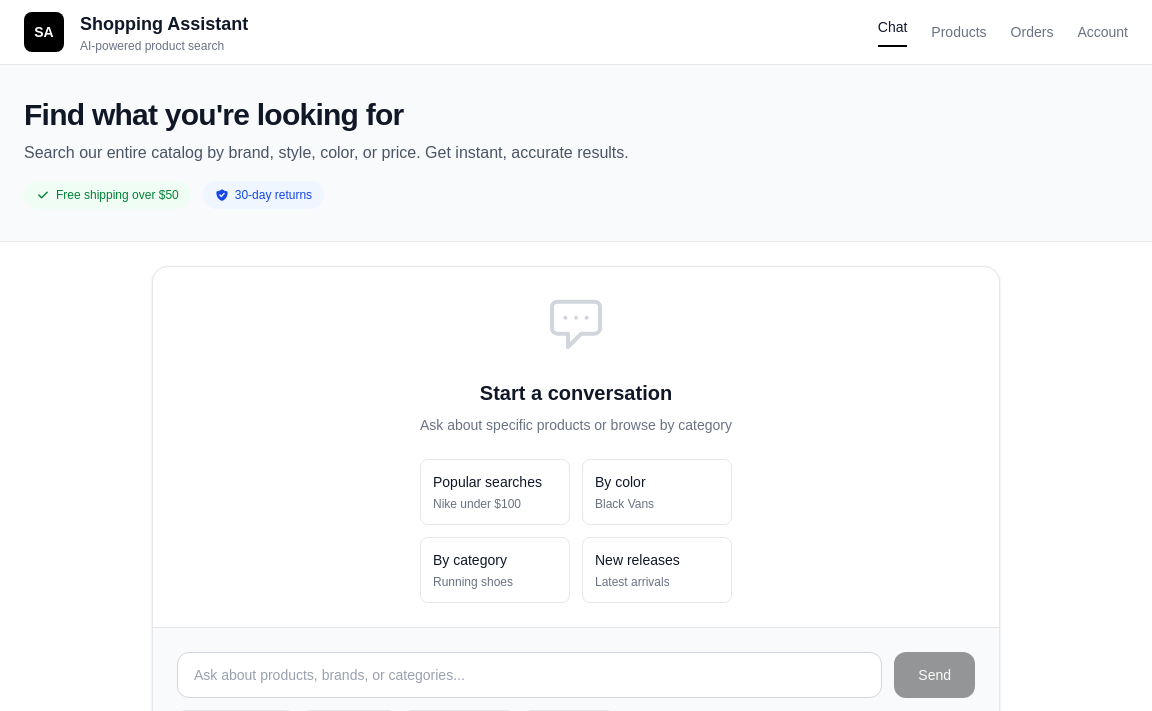
Test case: <ChatHome /> › persists history in sessionStorage
Type "hello" into the field with placeholder "Ask about products, brands, or categories...".
click(530, 675); type("hello")  # box [177,652,882,698]
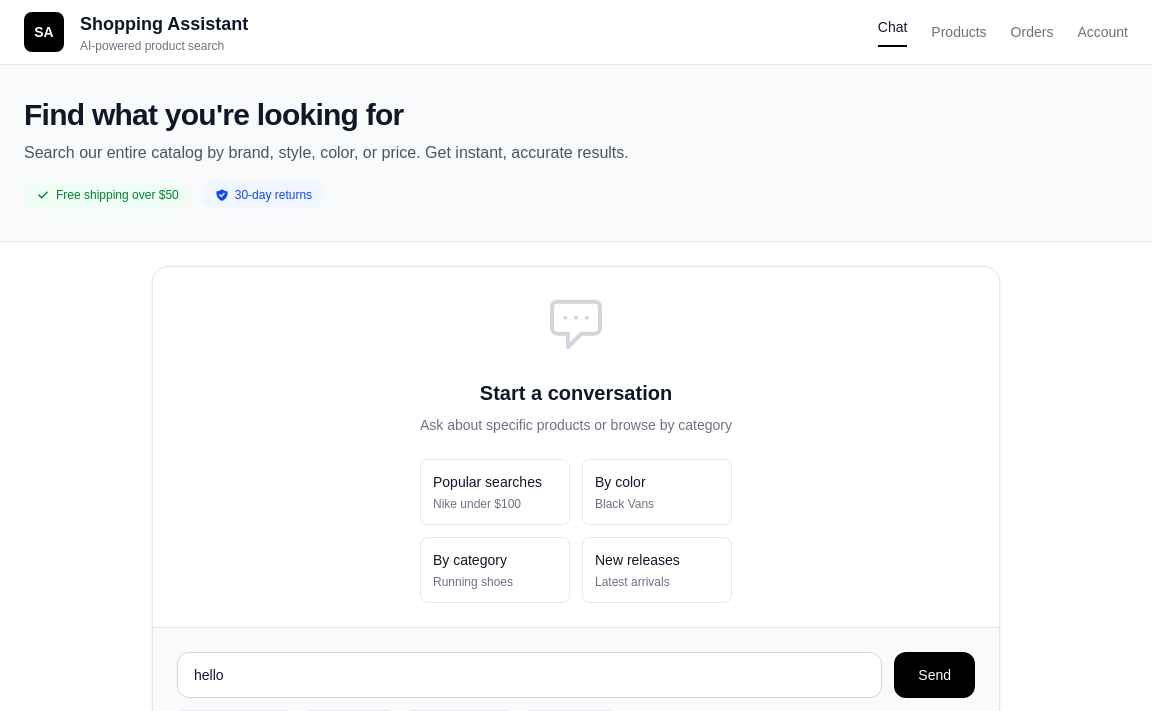
Press Enter in the field with placeholder "Ask about products, brands, or categories...", box [177,652,882,698]
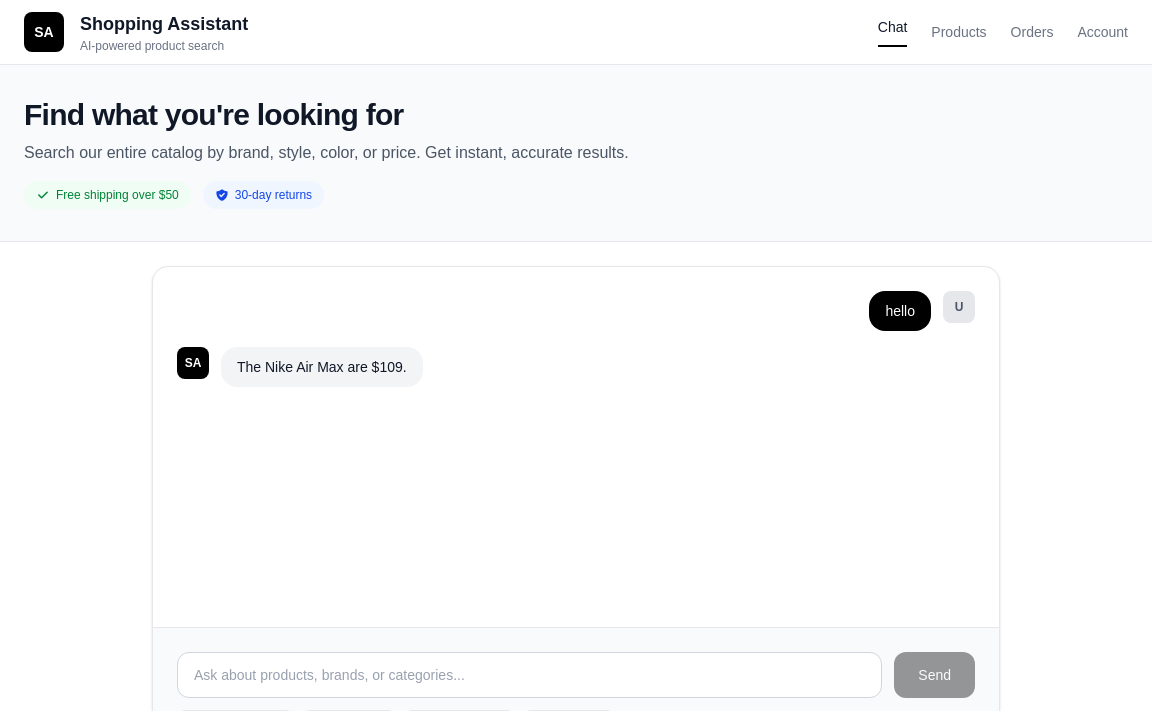
Now the text "The Nike Air Max are $109." is shown, box [221,347,423,387]
